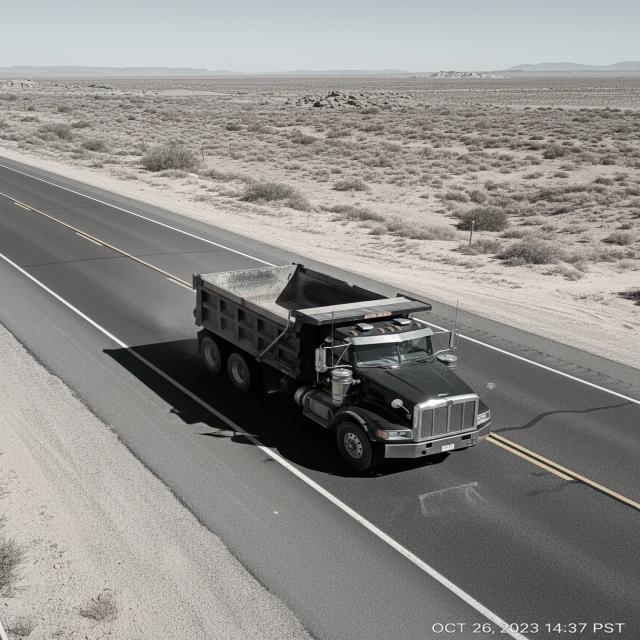Box: (196, 264, 437, 332)
Truck: (174, 240, 506, 464)
